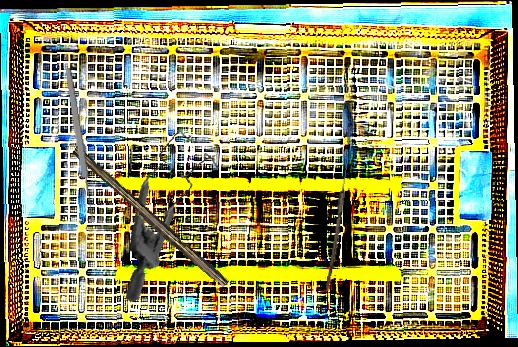Scalpel Handle: (67, 145, 232, 291)
Speculum: (98, 124, 240, 303)
Surgical Spoon: (63, 67, 97, 224), (325, 154, 351, 292)
